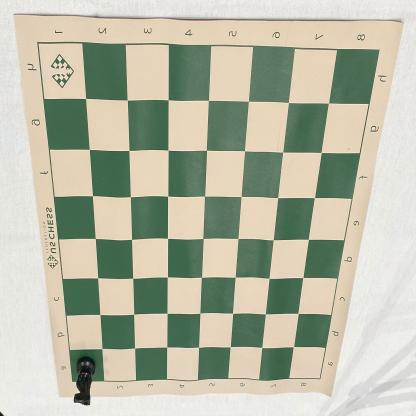black-knight: (73, 357, 97, 406)
